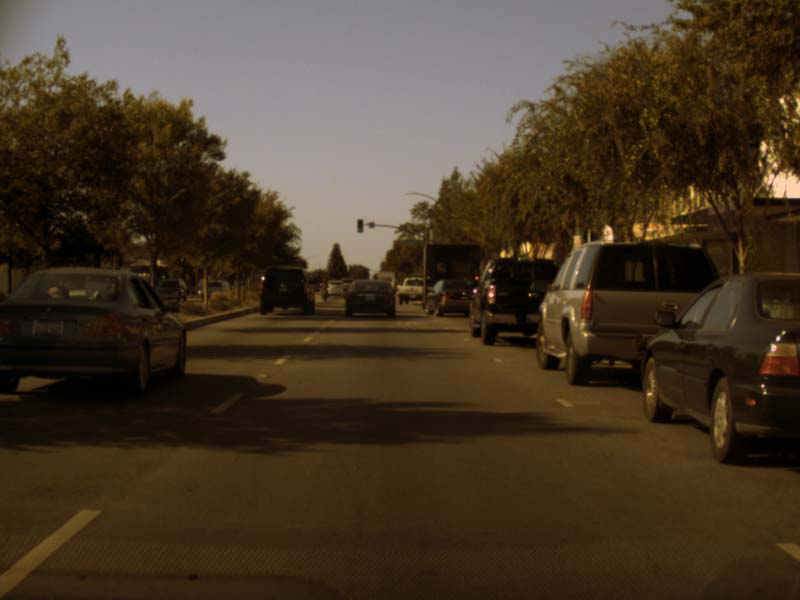Green: (357, 219, 362, 232)
